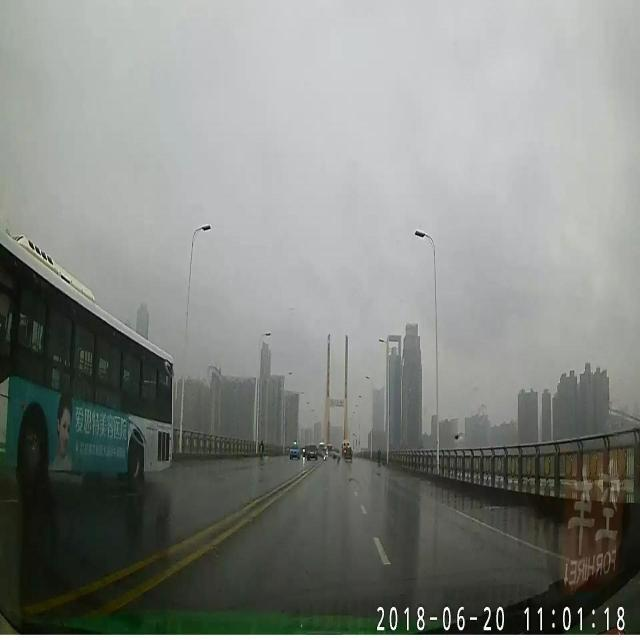car: (307, 444, 318, 458), (290, 445, 300, 458), (344, 444, 352, 460)
